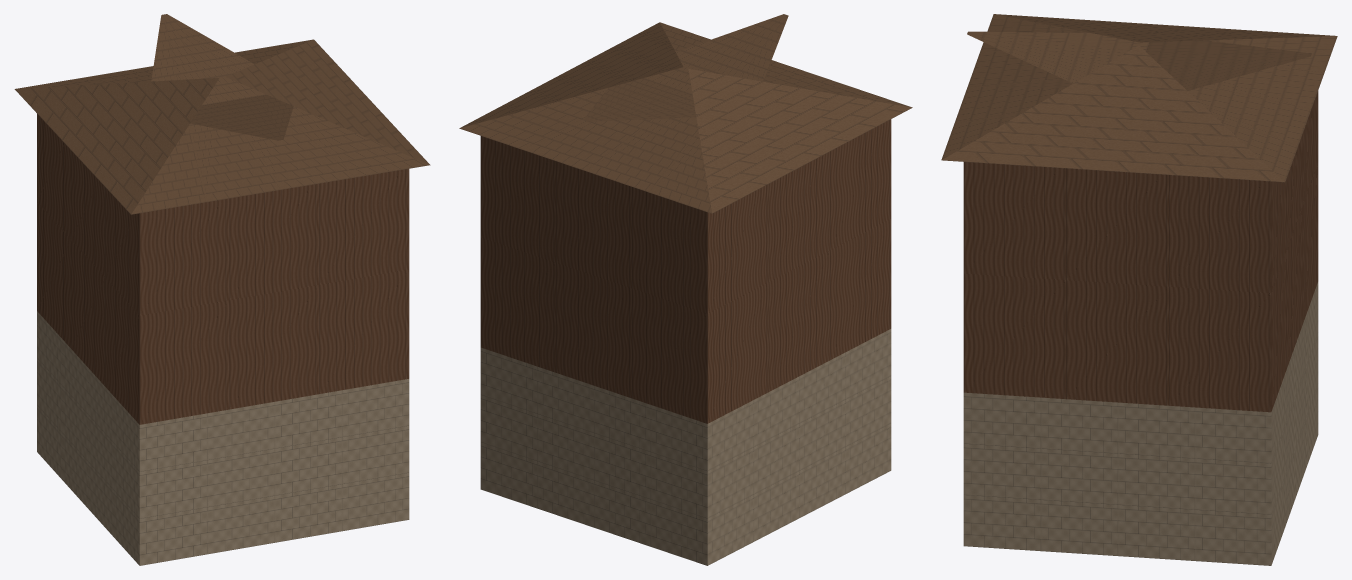
File: bld_c17_16_500.gltf
3 views of the same model, side by side, from view 1: azimuth 30°, elevation 25°; view 2: azimuth 150°, elevation 25°; view 3: azimuth 270°, elevation 25° (orthographic). The views are drawn at different scales.
Parts seen in each view (by area): view 1: bld_c17_16_500; view 2: bld_c17_16_500; view 3: bld_c17_16_500.
Boxes of the visible parts, x1,y1,x2,y2 form: bld_c17_16_500: (14,14,430,565); bld_c17_16_500: (459,14,912,565); bld_c17_16_500: (941,14,1337,565).
Bounding box in the file's own units: 11.99 × 14.8 × 11.93.
3 materials, 3 textured.
